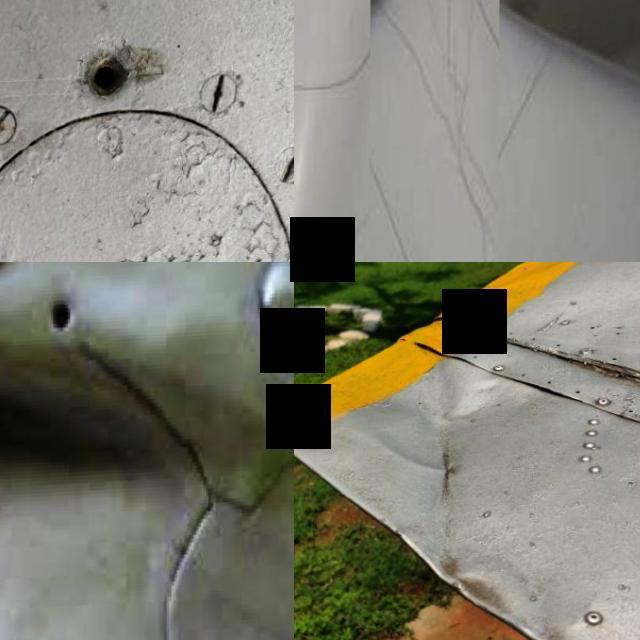Crack: (74, 327, 294, 640), (371, 0, 493, 262), (453, 46, 560, 262), (294, 0, 403, 100)
Dent: (417, 527, 520, 639)
Missing_Fastener: (64, 40, 160, 132)
